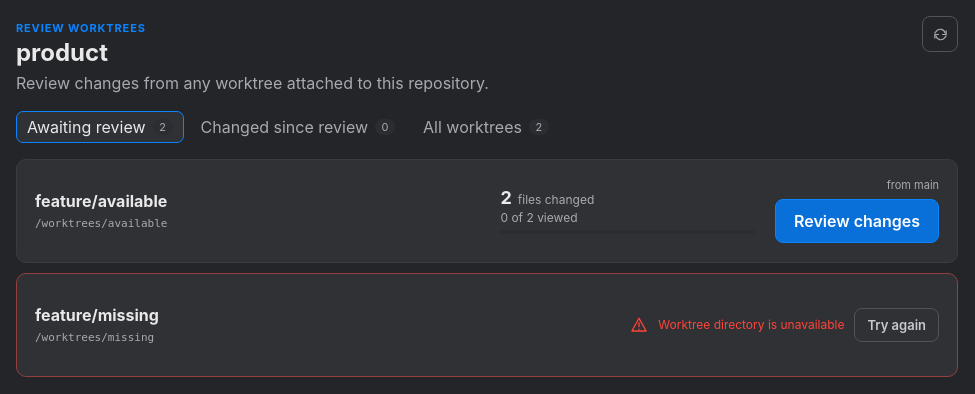
Scenario: worktree review queue › keeps an unavailable worktree visible and retries only that row
Expected: the message shows "Worktree directory is unavailable", [658,317,844,332]
Expected: the button with aria-label "Review feature/available" is shown, [775,199,939,243]
Click the button "Try again" at [897, 325], box [854,308,939,342]
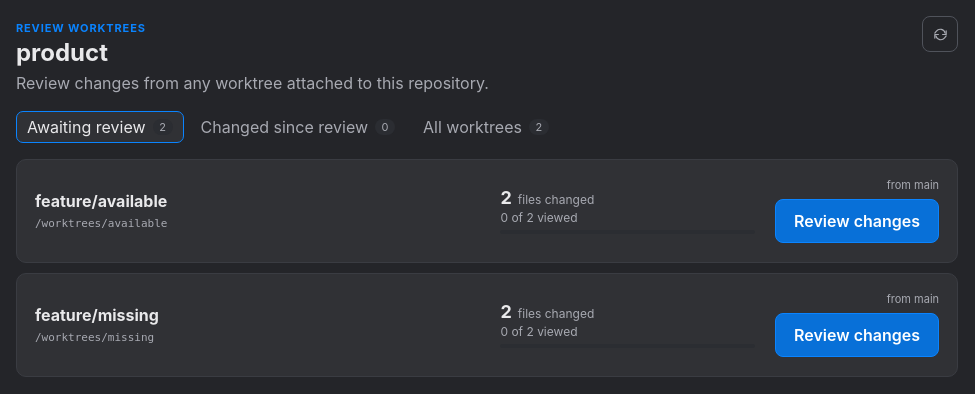
Expected: the button with aria-label "Review feature/missing" is shown, [775,313,939,357]
